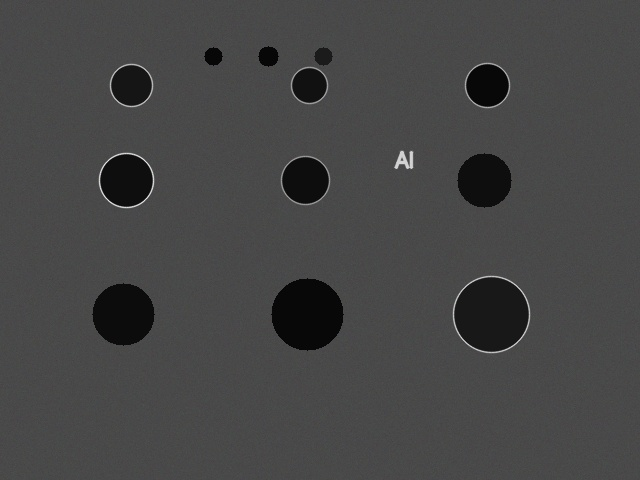hole: (453, 276, 529, 352), (271, 278, 343, 350), (92, 283, 154, 345), (99, 153, 153, 207), (457, 153, 511, 207), (281, 156, 329, 204), (465, 63, 509, 107), (110, 64, 152, 106), (291, 67, 327, 103), (258, 46, 278, 66), (204, 47, 222, 65), (314, 47, 332, 65)
